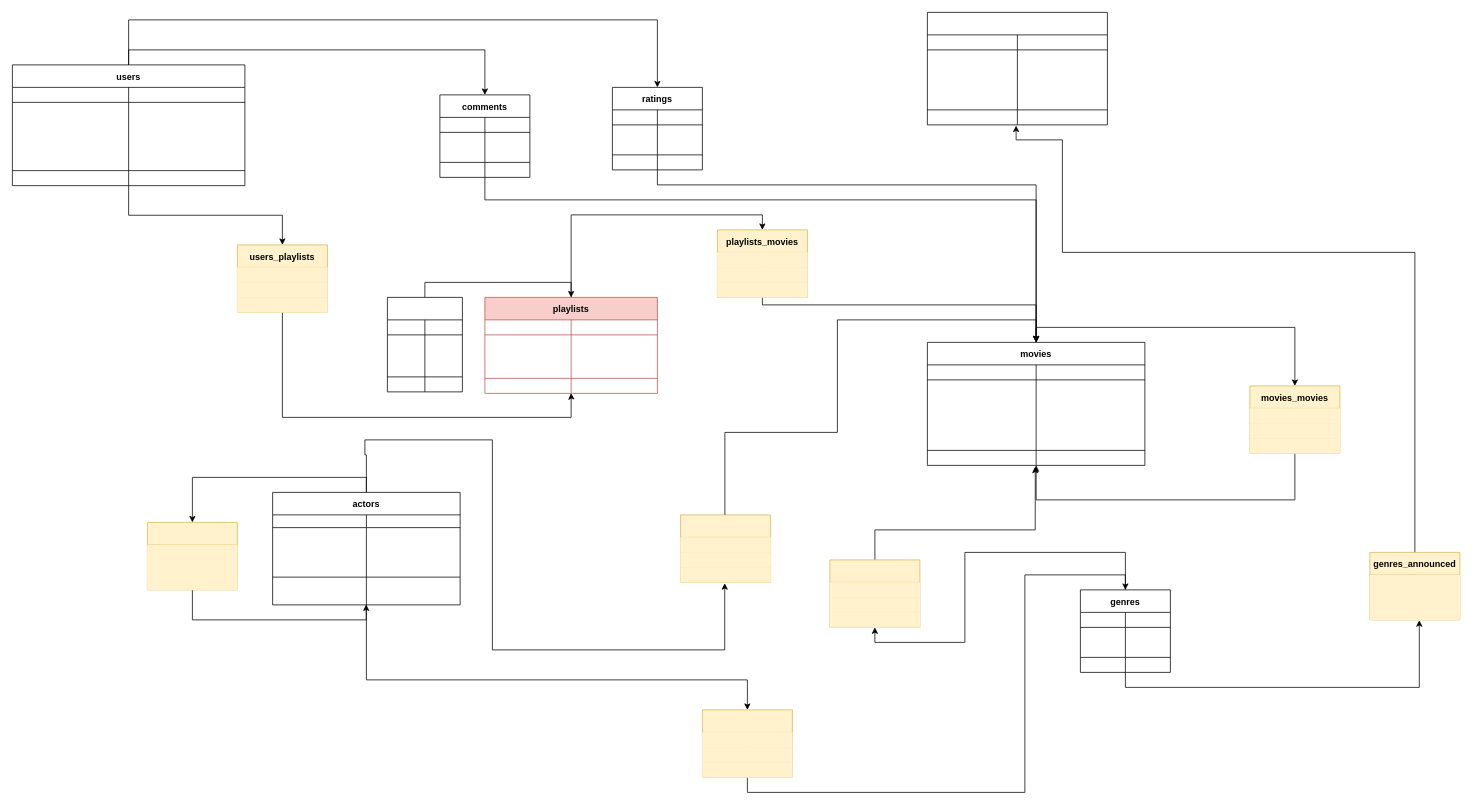
Some shapes in this 1472 by 805 pixel diagram are drawn without their labels. Each missing label, with the box of its shape:
actors_actors: (147, 522, 237, 590)
announced: (927, 12, 1107, 125)
feed: (387, 297, 462, 392)
genres_actors: (702, 709, 792, 777)
genres_movies: (829, 559, 920, 627)
movies_actors: (680, 514, 771, 582)
